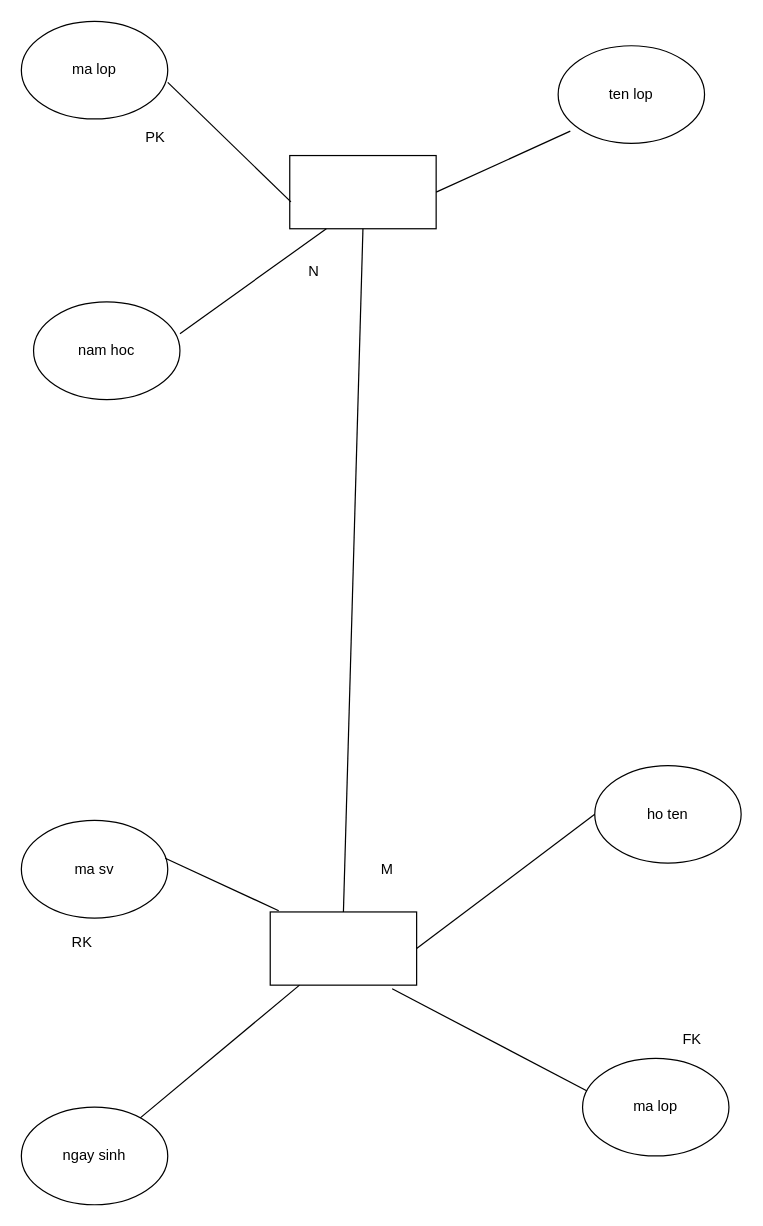
Image size: 763x1226. Some labels were removed from this diagram. The shapes that lost their labels are listed below. From the top down, each one's centre as x and y in pixels, then its label:
At (362,191): "lop hoc".
At (343,948): "sinh vien".
